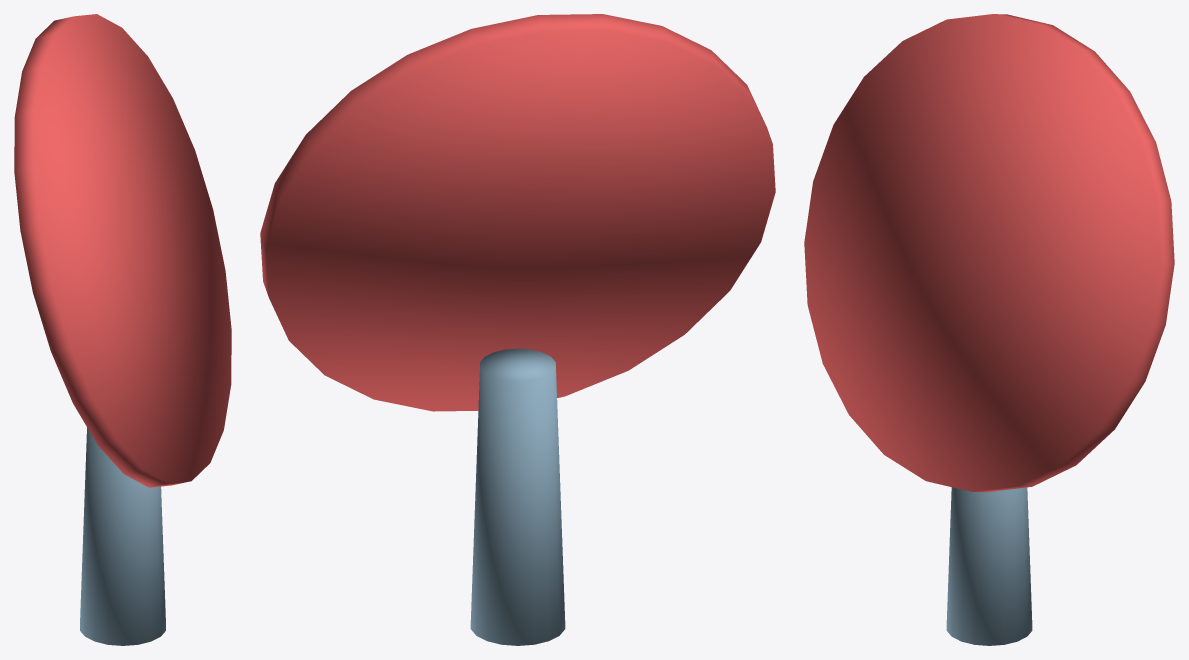
Rendered from table_tennis_paddle.glb.
The picture shows the model from 3 angles, left to right: view 1: azimuth 30°, elevation 25°; view 2: azimuth 150°, elevation 25°; view 3: azimuth 270°, elevation 25°; orthographic projection. The views are drawn at different scales.
Parts seen in each view (by area): view 1: blade, handle; view 2: blade, handle; view 3: blade, handle.
Part boxes in pixels (x1,y1,x2,y2): blade: (14,14,231,487); handle: (80,427,165,645); blade: (260,14,775,411); handle: (470,348,565,645); blade: (804,14,1174,492); handle: (946,487,1032,645).
Bounding box in the file's own units: 0.8518 × 1.48 × 0.8518.
